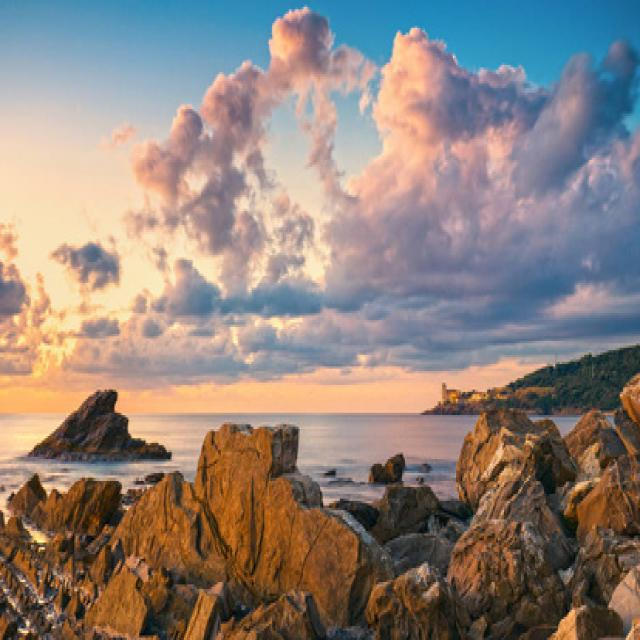island: (433, 324, 640, 420)
